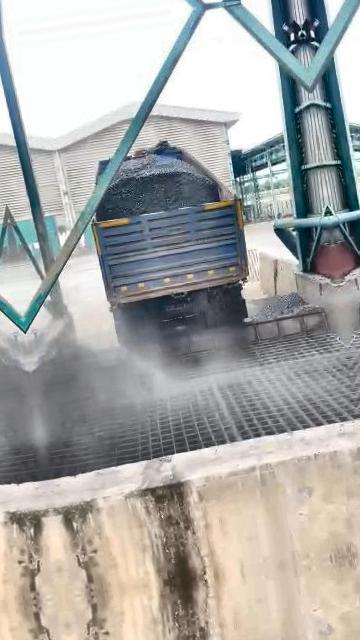gravel: (96, 154, 222, 221), (113, 283, 248, 343), (250, 292, 317, 321)
